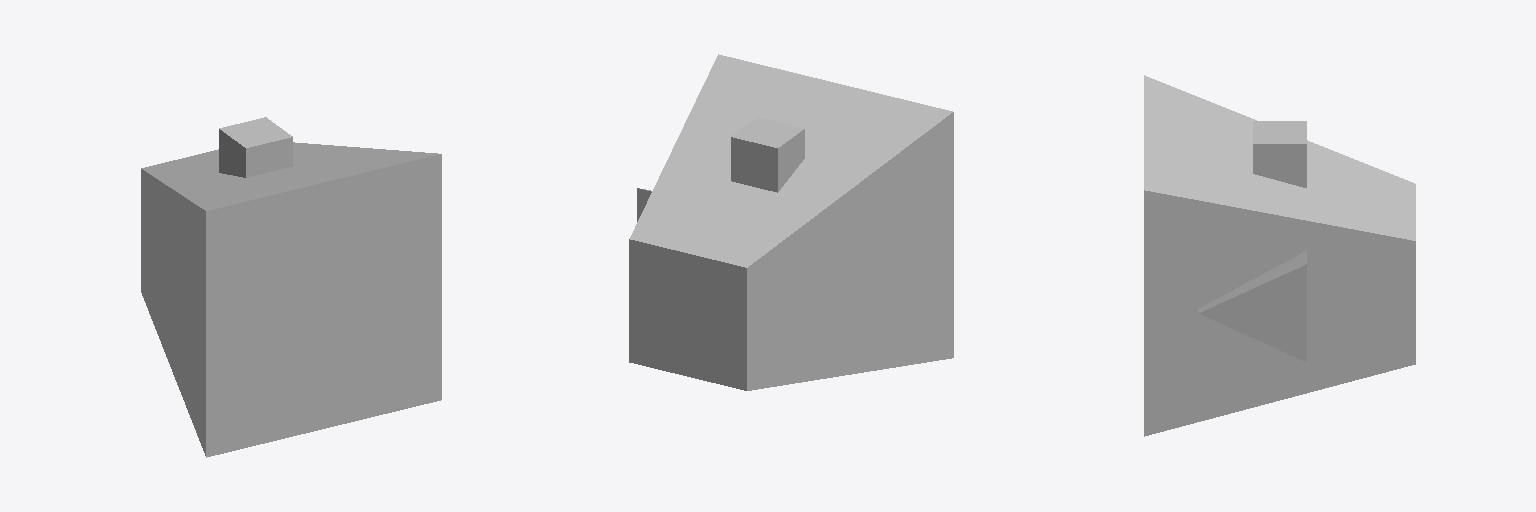
File: thing+z+x.obj
3 views of the same model, side by side, from view 1: azimuth 30°, elevation 25°; view 2: azimuth 150°, elevation 25°; view 3: azimuth 270°, elevation 25° (orthographic).
Parts seen in each view (by area): view 1: Cube; view 2: Cube; view 3: Cube.
Boxes of the visible parts, box(x1,y1,x2,y2) form: Cube: box(141, 117, 441, 457); Cube: box(629, 54, 953, 390); Cube: box(1144, 75, 1415, 436).
Size of the model in its own units: 1 by 1 by 1.